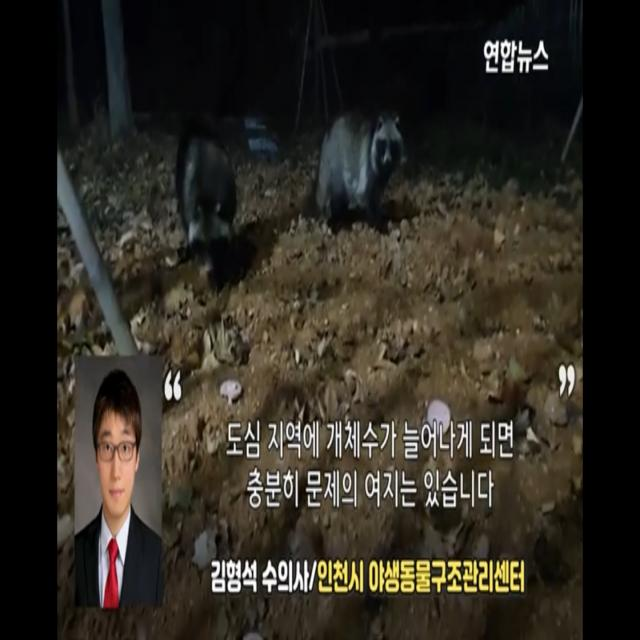racoon: (315, 93, 409, 222), (169, 116, 243, 270)
